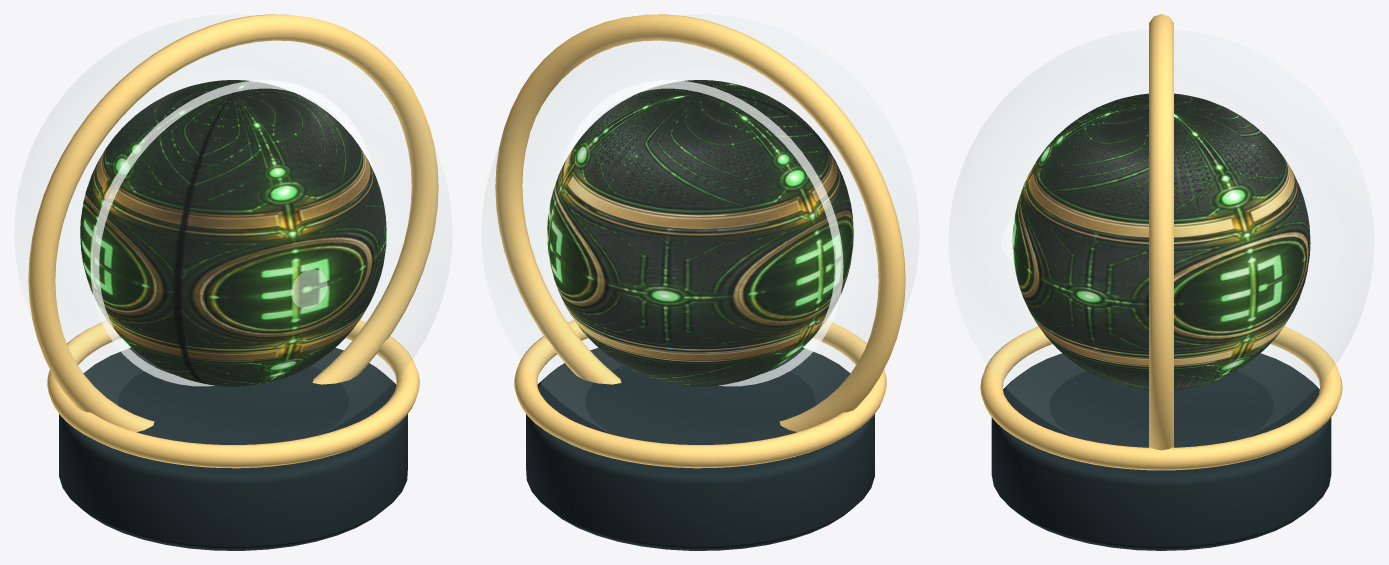
Rendered from hp_pickup_route_output_orb_3.glb.
3 views of the same model, side by side, from view 1: azimuth 30°, elevation 25°; view 2: azimuth 150°, elevation 25°; view 3: azimuth 270°, elevation 25° (orthographic). The views are drawn at different scales.
Parts seen in each view (by area): view 1: route_orb_3_image2_api_wrap_inner_sphere, route_orb_3_floor_socket, route_orb_3_front_protective_brass_frame, route_orb_3_base_locking_trim, route_orb_3_inner_light_equator, route_orb_3_inner_light_core; view 2: route_orb_3_image2_api_wrap_inner_sphere, route_orb_3_floor_socket, route_orb_3_front_protective_brass_frame, route_orb_3_base_locking_trim, route_orb_3_inner_light_equator; view 3: route_orb_3_image2_api_wrap_inner_sphere, route_orb_3_floor_socket, route_orb_3_base_locking_trim, route_orb_3_front_protective_brass_frame.
Boxes of the visible parts, x1=… form: route_orb_3_image2_api_wrap_inner_sphere: x1=80, y1=80, x2=386, y2=386; route_orb_3_floor_socket: x1=59, y1=347, x2=407, y2=550; route_orb_3_front_protective_brass_frame: x1=28, y1=14, x2=438, y2=432; route_orb_3_base_locking_trim: x1=47, y1=320, x2=419, y2=468; route_orb_3_inner_light_equator: x1=90, y1=80, x2=373, y2=386; route_orb_3_inner_light_core: x1=291, y1=269, x2=327, y2=307; route_orb_3_image2_api_wrap_inner_sphere: x1=547, y1=80, x2=853, y2=386; route_orb_3_floor_socket: x1=526, y1=347, x2=874, y2=550; route_orb_3_front_protective_brass_frame: x1=495, y1=14, x2=905, y2=432; route_orb_3_base_locking_trim: x1=514, y1=320, x2=886, y2=468; route_orb_3_inner_light_equator: x1=560, y1=80, x2=843, y2=386; route_orb_3_image2_api_wrap_inner_sphere: x1=1012, y1=93, x2=1310, y2=390; route_orb_3_floor_socket: x1=991, y1=353, x2=1331, y2=550; route_orb_3_base_locking_trim: x1=980, y1=326, x2=1342, y2=470; route_orb_3_front_protective_brass_frame: x1=1149, y1=14, x2=1173, y2=450.
Bounding box in the file's own units: 0.484 × 0.524 × 0.452.
Materials: 5 (1 with a texture image).
